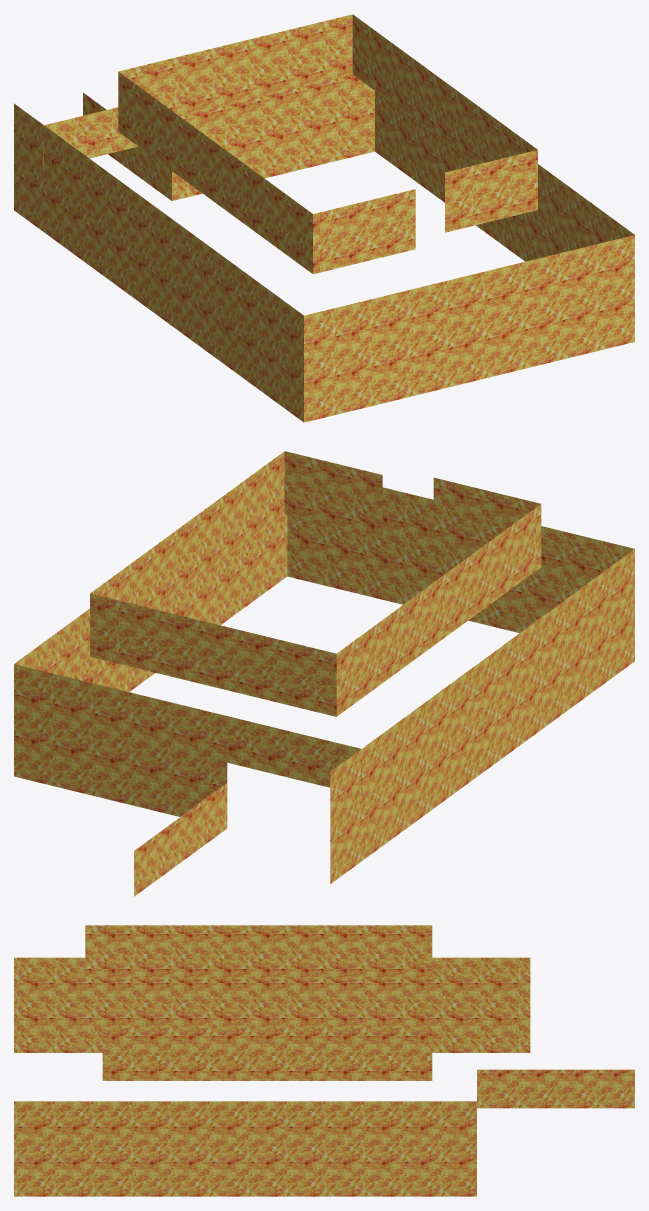
The model's file is fire.dae.
The picture shows the model from 3 angles, top to bottom: view 1: azimuth 30°, elevation 25°; view 2: azimuth 150°, elevation 25°; view 3: azimuth 270°, elevation 25°; orthographic projection. The views are drawn at different scales.
Visible parts, largest first — view 1: SketchUp (×2); view 2: SketchUp (×2); view 3: SketchUp (×2).
Part boxes in pixels (x1,y1,x2,y2): SketchUp (×2): (14,14,634,422); SketchUp (×2): (14,451,634,896); SketchUp (×2): (14,925,634,1196).
Bounding box in the file's own units: 1041 × 1898 × 502.
1 material, 1 textured.
